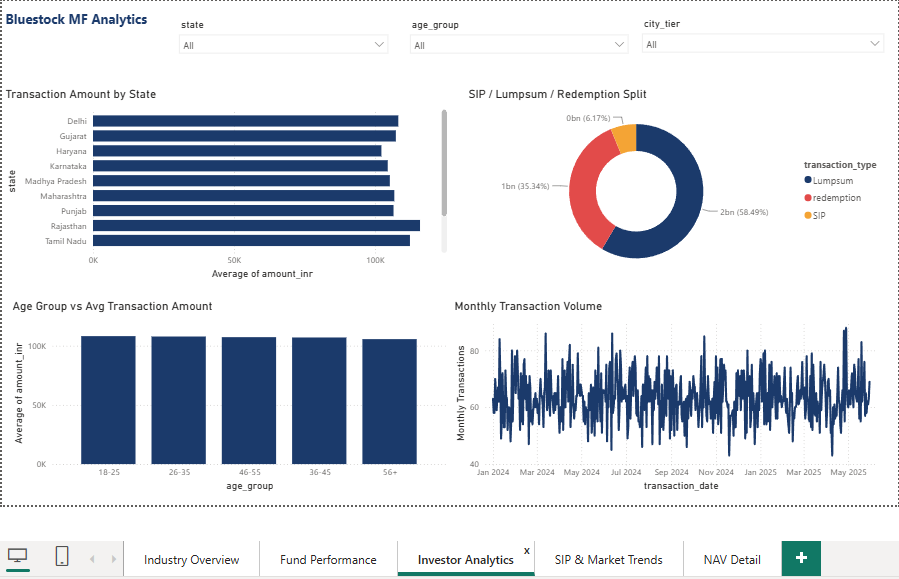

The dashboard page shown, as its layout file describes it:
{"tool":"powerbi","page":{"name":"Investor Analytics","canvas":[1280,720],"ordinal":2},"visuals":[{"type":"clusteredBarChart","title":"Transaction Amount by State","fields":{"Y":["Avg(Transactions.amount_inr)"],"Category":["Transactions.state"]},"box":[0,123.1,640.7,278.8],"z":0},{"type":"donutChart","title":"SIP / Lumpsum / Redemption Split","fields":{"Category":["Transactions.transaction_type"],"Y":["Sum(Transactions.amount_inr)"]},"box":[661.5,123.1,608.1,278.8],"z":1000},{"type":"columnChart","title":"Age Group vs Avg Transaction Amount","fields":{"Category":["Transactions.age_group"],"Y":["Avg(Transactions.amount_inr)"]},"box":[10.4,425.7,630.4,278.8],"z":2000},{"type":"lineChart","title":"Monthly Transaction Volume","fields":{"Category":["Transactions.transaction_date"],"Y":["Transactions.Monthly Transactions"]},"box":[640.7,425.7,628.9,278.8],"z":3000},{"type":"slicer","fields":{"Values":["Transactions.age_group"]},"box":[572.2,20.5,332.2,90.7],"z":4000},{"type":"slicer","fields":{"Values":["Transactions.city_tier"]},"box":[904.4,19,365.9,90.7],"z":5000},{"type":"slicer","fields":{"Values":["Transactions.state"]},"box":[242.9,20.5,319,90.7],"z":6000},{"type":"textbox","box":[0,7.3,225.4,58.5],"z":7001}]}

Visuals, with their boxes on the page's 1280x720 design canvas (x1, y1, x2, y2). These are canvas units, not pixel positions in the 899x579 screenshot, which may show the page scaled, cropped or inside an application window:
"Transaction Amount by State" clusteredBarChart: 0:123:641:402
"SIP / Lumpsum / Redemption Split" donutChart: 662:123:1270:402
"Age Group vs Avg Transaction Amount" columnChart: 10:426:641:704
"Monthly Transaction Volume" lineChart: 641:426:1270:704
slicer - Transactions.age_group: 572:20:904:111
slicer - Transactions.city_tier: 904:19:1270:110
slicer - Transactions.state: 243:20:562:111
textbox: 0:7:225:66
